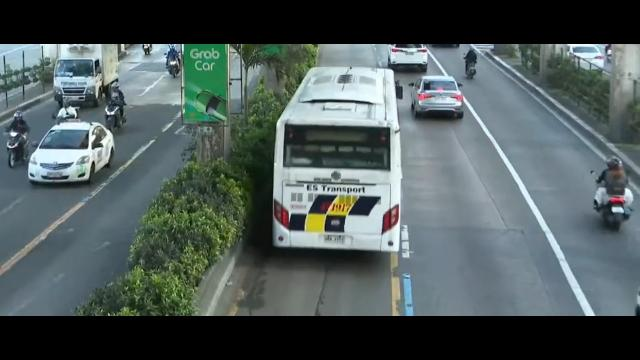bus: (274, 67, 401, 255)
car: (27, 123, 115, 185), (412, 76, 463, 120), (386, 45, 427, 69)
motorcycle: (590, 153, 633, 231), (1, 109, 30, 169), (106, 81, 129, 127), (49, 99, 80, 127), (164, 44, 185, 83), (464, 47, 479, 80)
truck: (47, 45, 125, 103)
